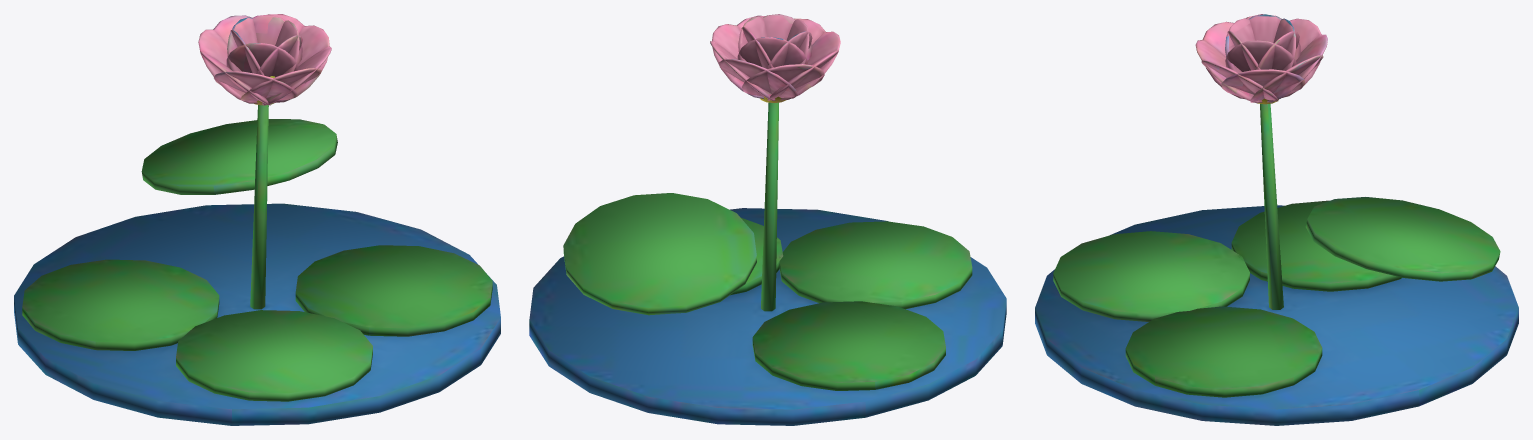
Rendered from crop_lotus.glb.
The picture shows the model from 3 angles, left to right: view 1: azimuth 30°, elevation 25°; view 2: azimuth 150°, elevation 25°; view 3: azimuth 270°, elevation 25°; orthographic projection. The views are drawn at different scales.
Parts seen in each view (by area): view 1: crop_lotus, fruit; view 2: crop_lotus, fruit; view 3: crop_lotus, fruit.
Part boxes in pixels (x1=…): crop_lotus: x1=14, y1=76, x2=500, y2=425; fruit: x1=198, y1=14, x2=331, y2=105; crop_lotus: x1=529, y1=96, x2=1006, y2=425; fruit: x1=710, y1=14, x2=840, y2=100; crop_lotus: x1=1035, y1=98, x2=1518, y2=425; fruit: x1=1195, y1=14, x2=1327, y2=103.
Size of the model in its own units: 0.32 by 0.2173 by 0.32.
1 material, 1 textured.
